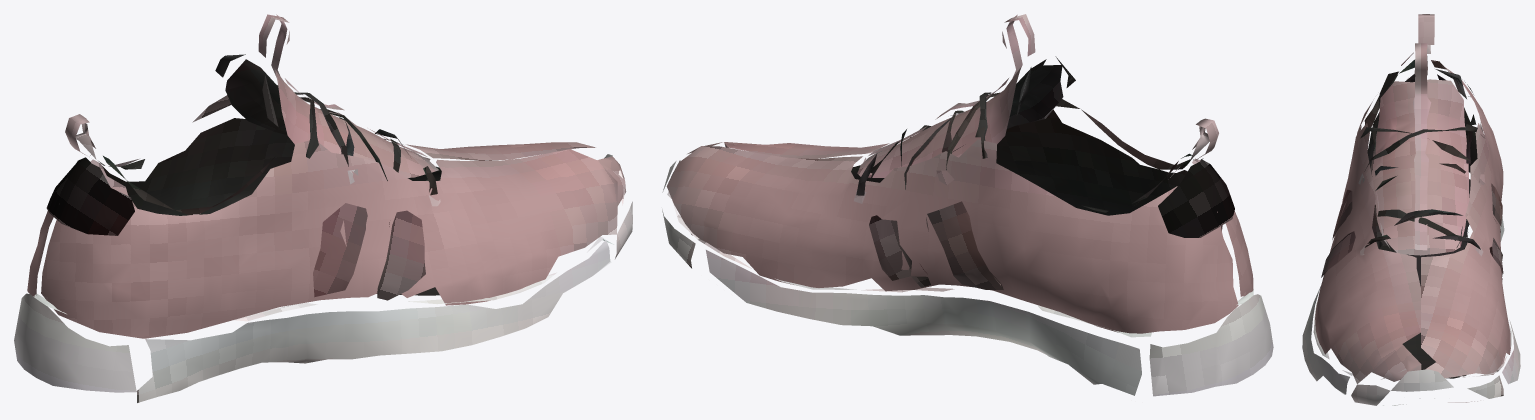
File: shoe-beach-far.glb
The picture shows the model from 3 angles, left to right: view 1: azimuth 30°, elevation 25°; view 2: azimuth 150°, elevation 25°; view 3: azimuth 270°, elevation 25°; orthographic projection. The views are drawn at different scales.
Visible parts, largest first — view 1: Shoe; view 2: Shoe; view 3: Shoe.
Part boxes in pixels (x1=…): Shoe: x1=14, y1=14, x2=632, y2=402; Shoe: x1=662, y1=14, x2=1273, y2=396; Shoe: x1=1302, y1=14, x2=1520, y2=405.
Bounding box in the file's own units: 0.2957 × 0.1512 × 0.1145.
1 material, 1 textured.
